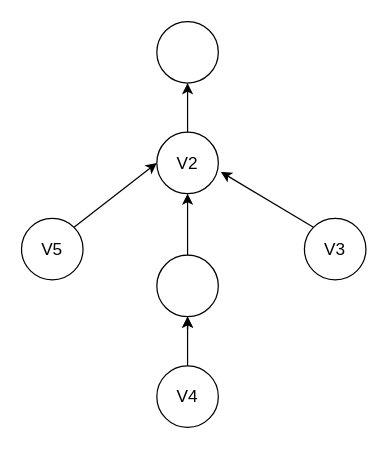
Image size: 387x449. Some labels were removed from this diagram. The shapes that lost their labels are listed below. From the top down, each one's centre as x and y in pixels, then its label:
pixel 187 51: V6
pixel 187 285: V1
